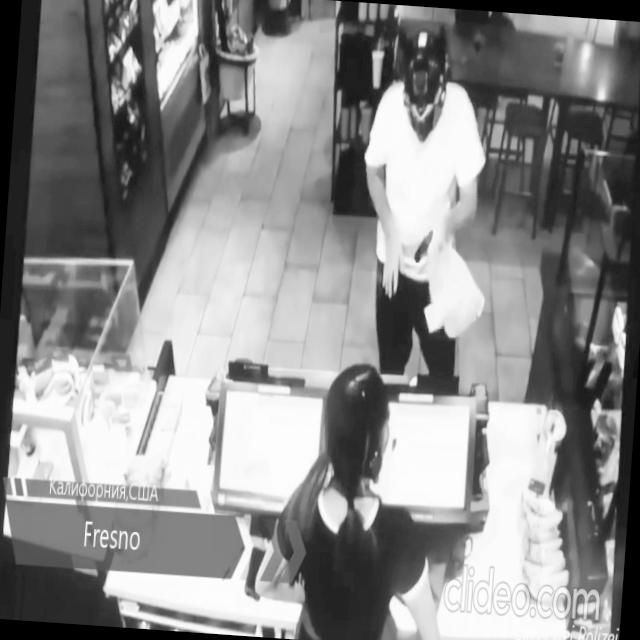gun: (410, 220, 434, 266)
person: (249, 351, 463, 640)
person with a gun: (348, 20, 491, 377)
